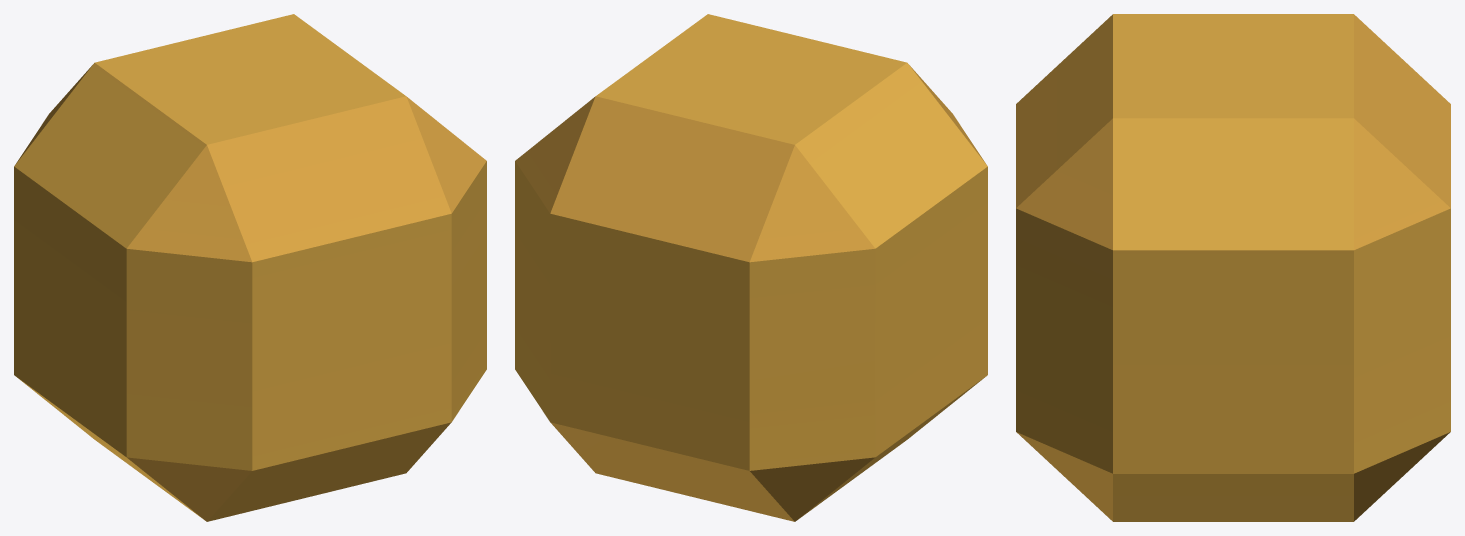
Rendered from Potato_Ready.glb.
3 views of the same model, side by side, from view 1: azimuth 30°, elevation 25°; view 2: azimuth 150°, elevation 25°; view 3: azimuth 270°, elevation 25° (orthographic). The views are drawn at different scales.
Parts seen in each view (by area): view 1: Potato_Ready; view 2: Potato_Ready; view 3: Potato_Ready.
Part boxes in pixels (bbox=[...]): Potato_Ready: bbox=[14, 14, 486, 521]; Potato_Ready: bbox=[515, 14, 987, 521]; Potato_Ready: bbox=[1016, 14, 1450, 521].
Size of the model in its own units: 0.0465 by 0.0465 by 0.0454.
1 material, 1 textured.
